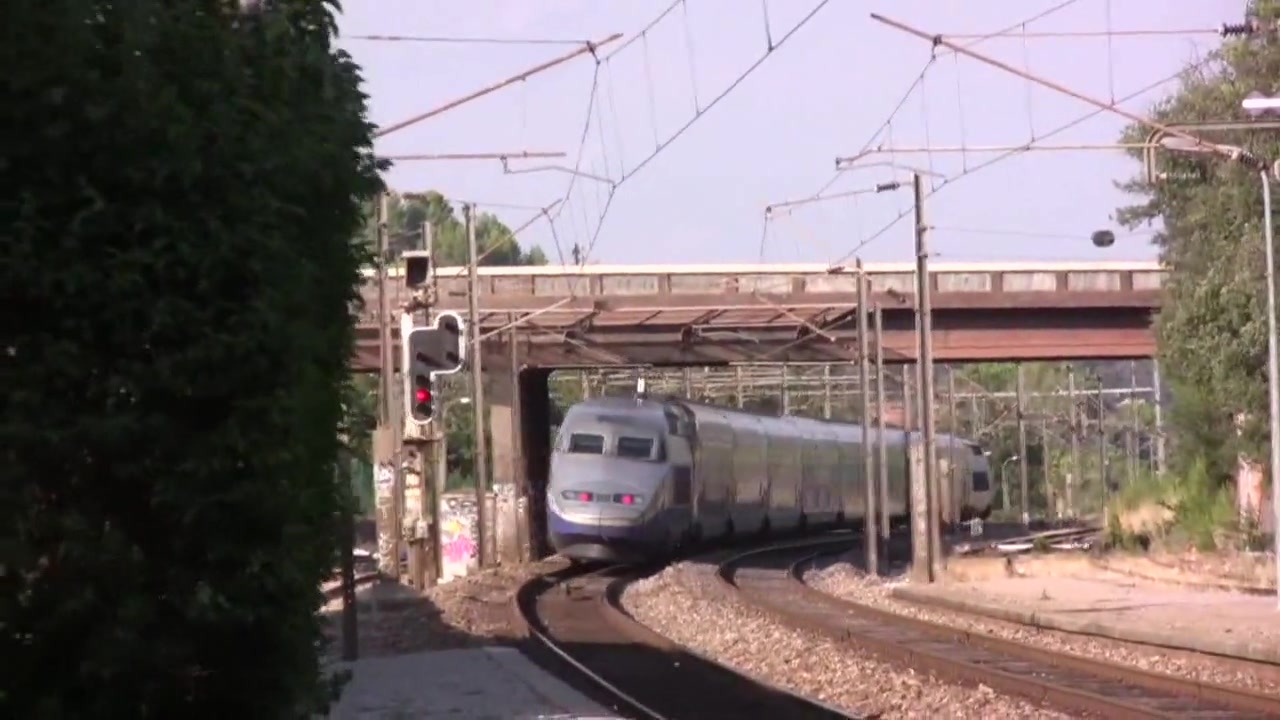train: (541, 402, 998, 570)
